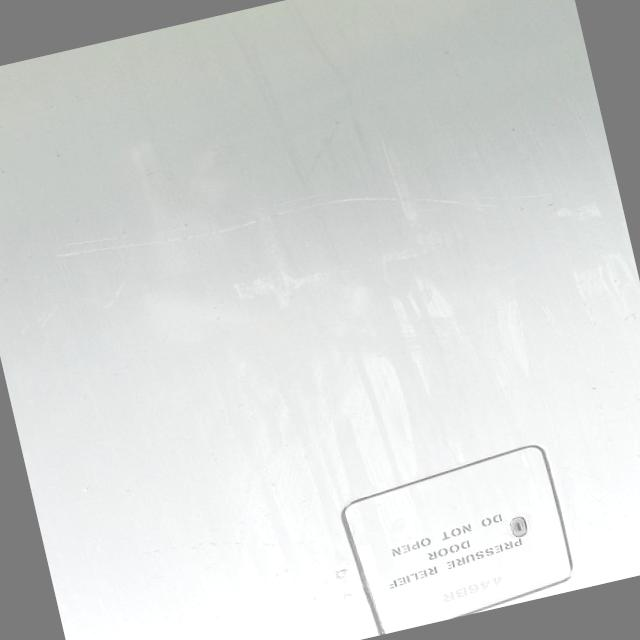crack: (46, 198, 252, 278)
